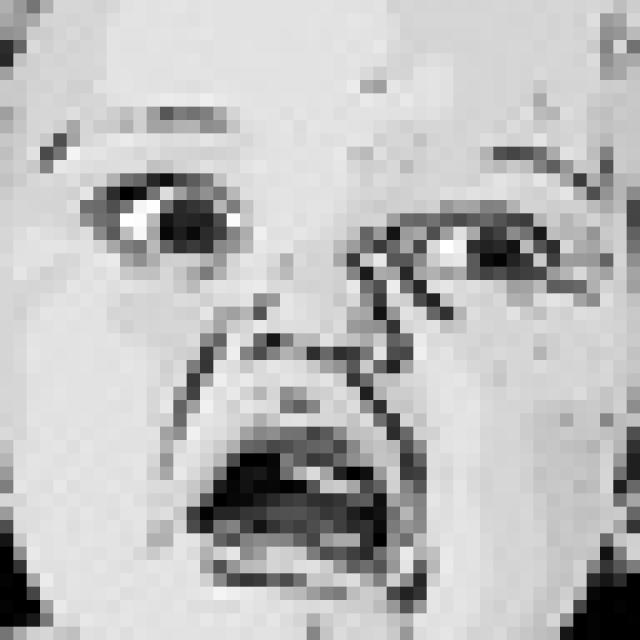disgust: (43, 99, 612, 626)
